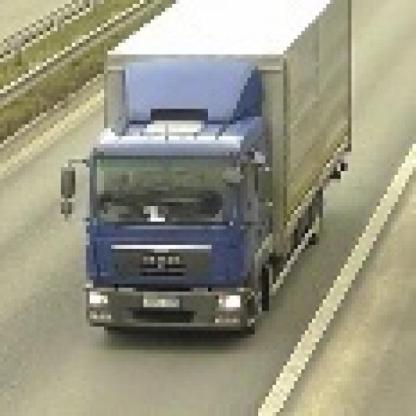truck: (58, 1, 349, 331)
